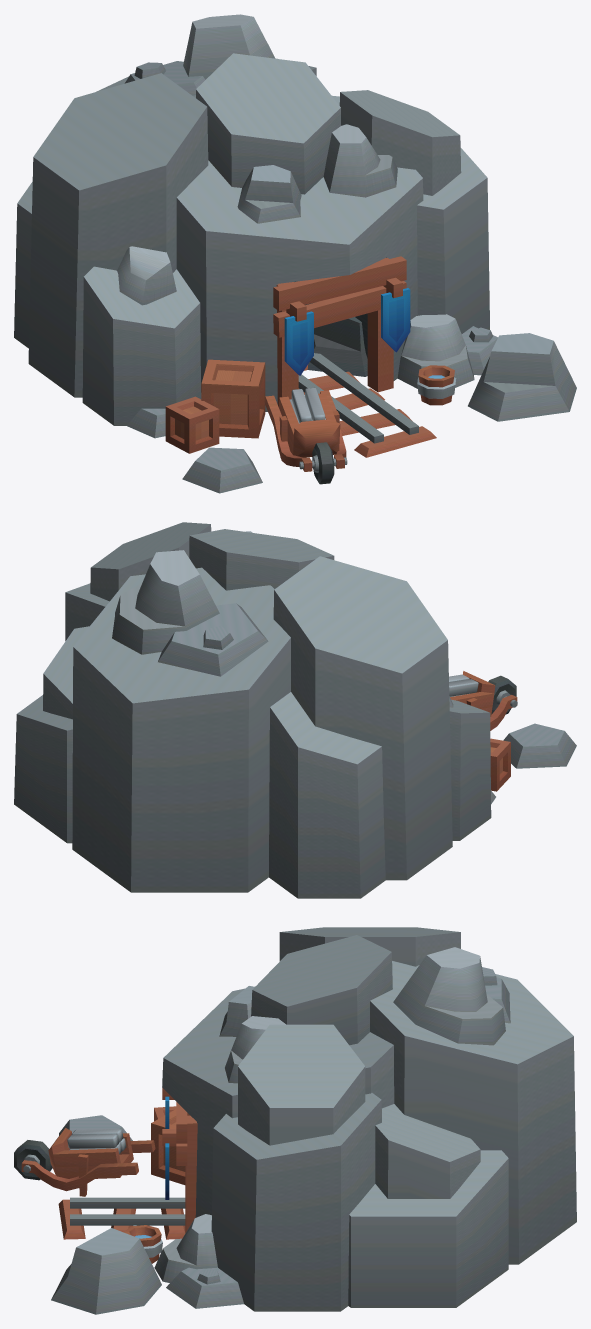
Rendered from StoneMine.gltf.
The picture shows the model from 3 angles, top to bottom: view 1: azimuth 30°, elevation 25°; view 2: azimuth 150°, elevation 25°; view 3: azimuth 270°, elevation 25°; orthographic projection.
Visible parts, largest first — view 1: building_mine_blue, rock_single_B, wheelbarrow, rock_single_A, resource_stone; view 2: building_mine_blue, rock_single_A, wheelbarrow, resource_stone; view 3: building_mine_blue, rock_single_B, wheelbarrow, resource_stone, rock_single_A.
Part boxes in pixels (x1=…): building_mine_blue: x1=14, y1=14, x2=497, y2=457; rock_single_B: x1=468, y1=333, x2=576, y2=421; wheelbarrow: x1=265, y1=390, x2=347, y2=484; rock_single_A: x1=182, y1=447, x2=262, y2=493; resource_stone: x1=289, y1=387, x2=325, y2=423; building_mine_blue: x1=14, y1=522, x2=510, y2=898; rock_single_A: x1=503, y1=723, x2=576, y2=768; wheelbarrow: x1=450, y1=671, x2=517, y2=730; resource_stone: x1=449, y1=674, x2=478, y2=696; building_mine_blue: x1=58, y1=927, x2=576, y2=1311; rock_single_B: x1=51, y1=1228, x2=161, y2=1314; wheelbarrow: x1=14, y1=1128, x2=155, y2=1196; resource_stone: x1=67, y1=1128, x2=126, y2=1153; rock_single_A: x1=59, y1=1115, x2=132, y2=1140.
Bounding box in the file's own units: 1.65 × 1.14 × 2.09.
5 materials, 5 textured.
